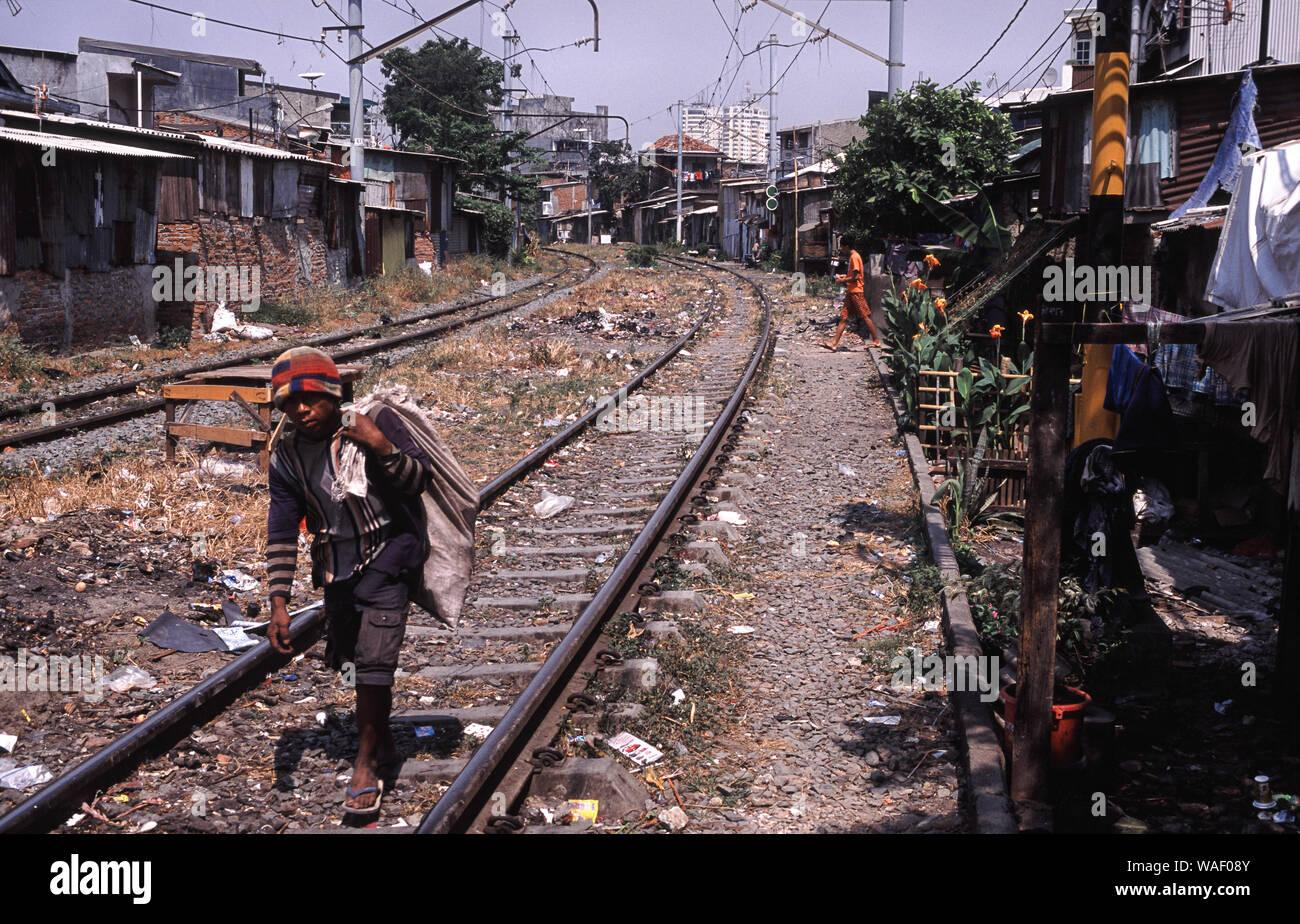Plastic: (528, 487, 577, 528), (708, 502, 752, 535)
